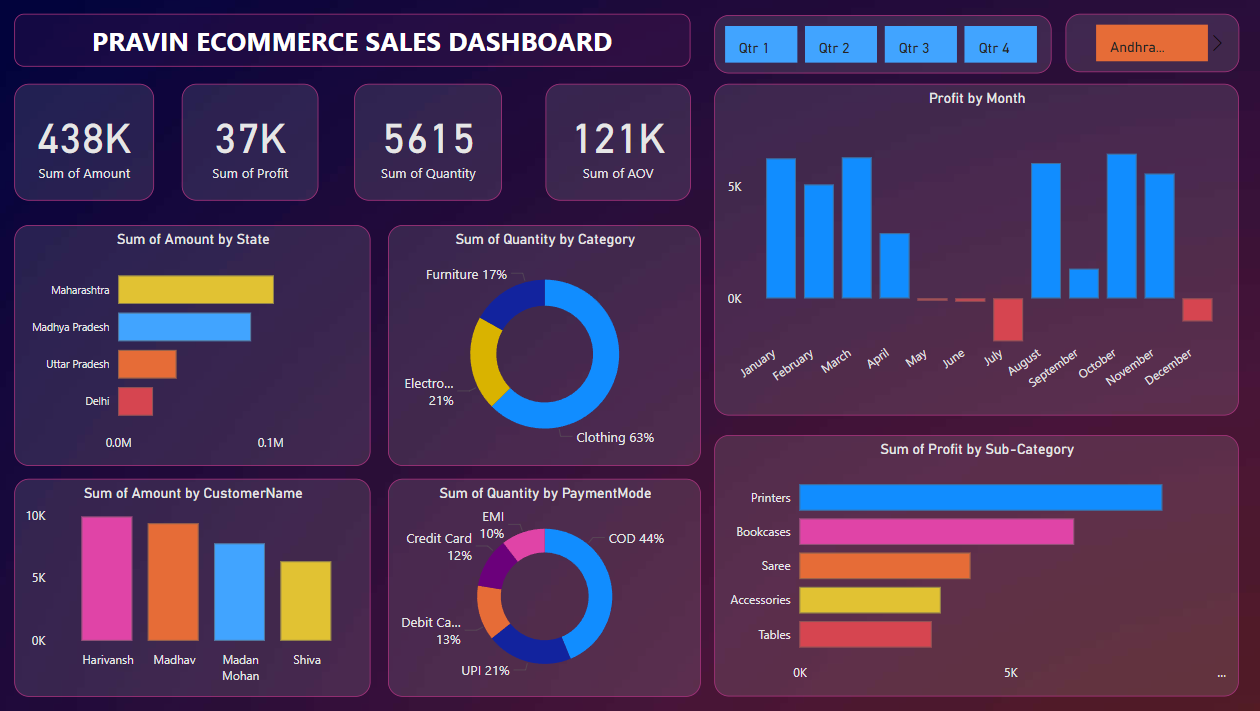

The page's visual inventory and layout, read from the dashboard file:
{"tool":"powerbi","page":{"name":"Page 1","canvas":[1280,720],"ordinal":0},"visuals":[{"type":"columnChart","title":"Profit by Month","fields":{"Y":["Sum(Details.Profit)"],"Category":["Orders.Order Date.Variation.Date Hierarchy.Month"]},"box":[725.9,85.1,531,336.2],"z":0},{"type":"barChart","fields":{"Category":["Details.Sub-Category"],"Y":["Sum(Details.Profit)"]},"box":[725.9,440.5,531,264.8],"z":1000},{"type":"donutChart","fields":{"Category":["Details.Category"],"Y":["Sum(Details.Quantity)"]},"box":[395.2,227.8,317,244.3],"z":2000},{"type":"donutChart","fields":{"Y":["Sum(Details.Quantity)"],"Category":["Details.PaymentMode"]},"box":[395.2,484.4,317,220.9],"z":3000},{"type":"card","fields":{"Values":["Sum(Details.Amount)"]},"box":[16.5,85.1,141.3,118],"z":4000},{"type":"card","fields":{"Values":["Sum(Details.Quantity)"]},"box":[360.9,85.1,149.6,118],"z":5000},{"type":"card","fields":{"Values":["Sum(Details.Profit)"]},"box":[186.6,85.1,138.6,118],"z":6000},{"type":"card","fields":{"Values":["Sum(Details.AOV)"]},"box":[554.4,85.1,146.8,118],"z":7000},{"type":"barChart","fields":{"Category":["Orders.State"],"Y":["Sum(Details.Amount)"]},"box":[16.5,227.8,360.9,244.3],"z":8000},{"type":"columnChart","fields":{"Category":["Orders.CustomerName"],"Y":["Sum(Details.Amount)"]},"box":[16.5,484.4,360.9,220.9],"z":9000},{"type":"textbox","box":[16.5,13.7,684.7,53.5],"z":10000},{"type":"advancedSlicerVisual","fields":{"Values":["Orders.Order Date.Variation.Date Hierarchy.Quarter"]},"box":[725.9,15.1,341.7,59],"z":11000},{"type":"advancedSlicerVisual","fields":{"Values":["Orders.State"]},"box":[1081.3,13.7,175.6,59],"z":12000}]}

Visuals, with their boxes in screenshot pixels (x1, y1, x2, y2), scaled from the page's 1280x720 canvas onto the 1260x711 screenshot:
"Profit by Month" columnChart: locate(715, 84, 1237, 416)
barChart - Details.Sub-Category x Sum(Details.Profit): locate(715, 435, 1237, 696)
donutChart - Details.Category x Sum(Details.Quantity): locate(389, 225, 701, 466)
donutChart - Sum(Details.Quantity) x Details.PaymentMode: locate(389, 478, 701, 696)
card - Sum(Details.Amount): locate(16, 84, 155, 201)
card - Sum(Details.Quantity): locate(355, 84, 503, 201)
card - Sum(Details.Profit): locate(184, 84, 320, 201)
card - Sum(Details.AOV): locate(546, 84, 690, 201)
barChart - Orders.State x Sum(Details.Amount): locate(16, 225, 372, 466)
columnChart - Orders.CustomerName x Sum(Details.Amount): locate(16, 478, 372, 696)
textbox: locate(16, 14, 690, 66)
advancedSlicerVisual - Orders.Order Date.Variation.Date Hierarchy.Quarter: locate(715, 15, 1051, 73)
advancedSlicerVisual - Orders.State: locate(1064, 14, 1237, 72)
